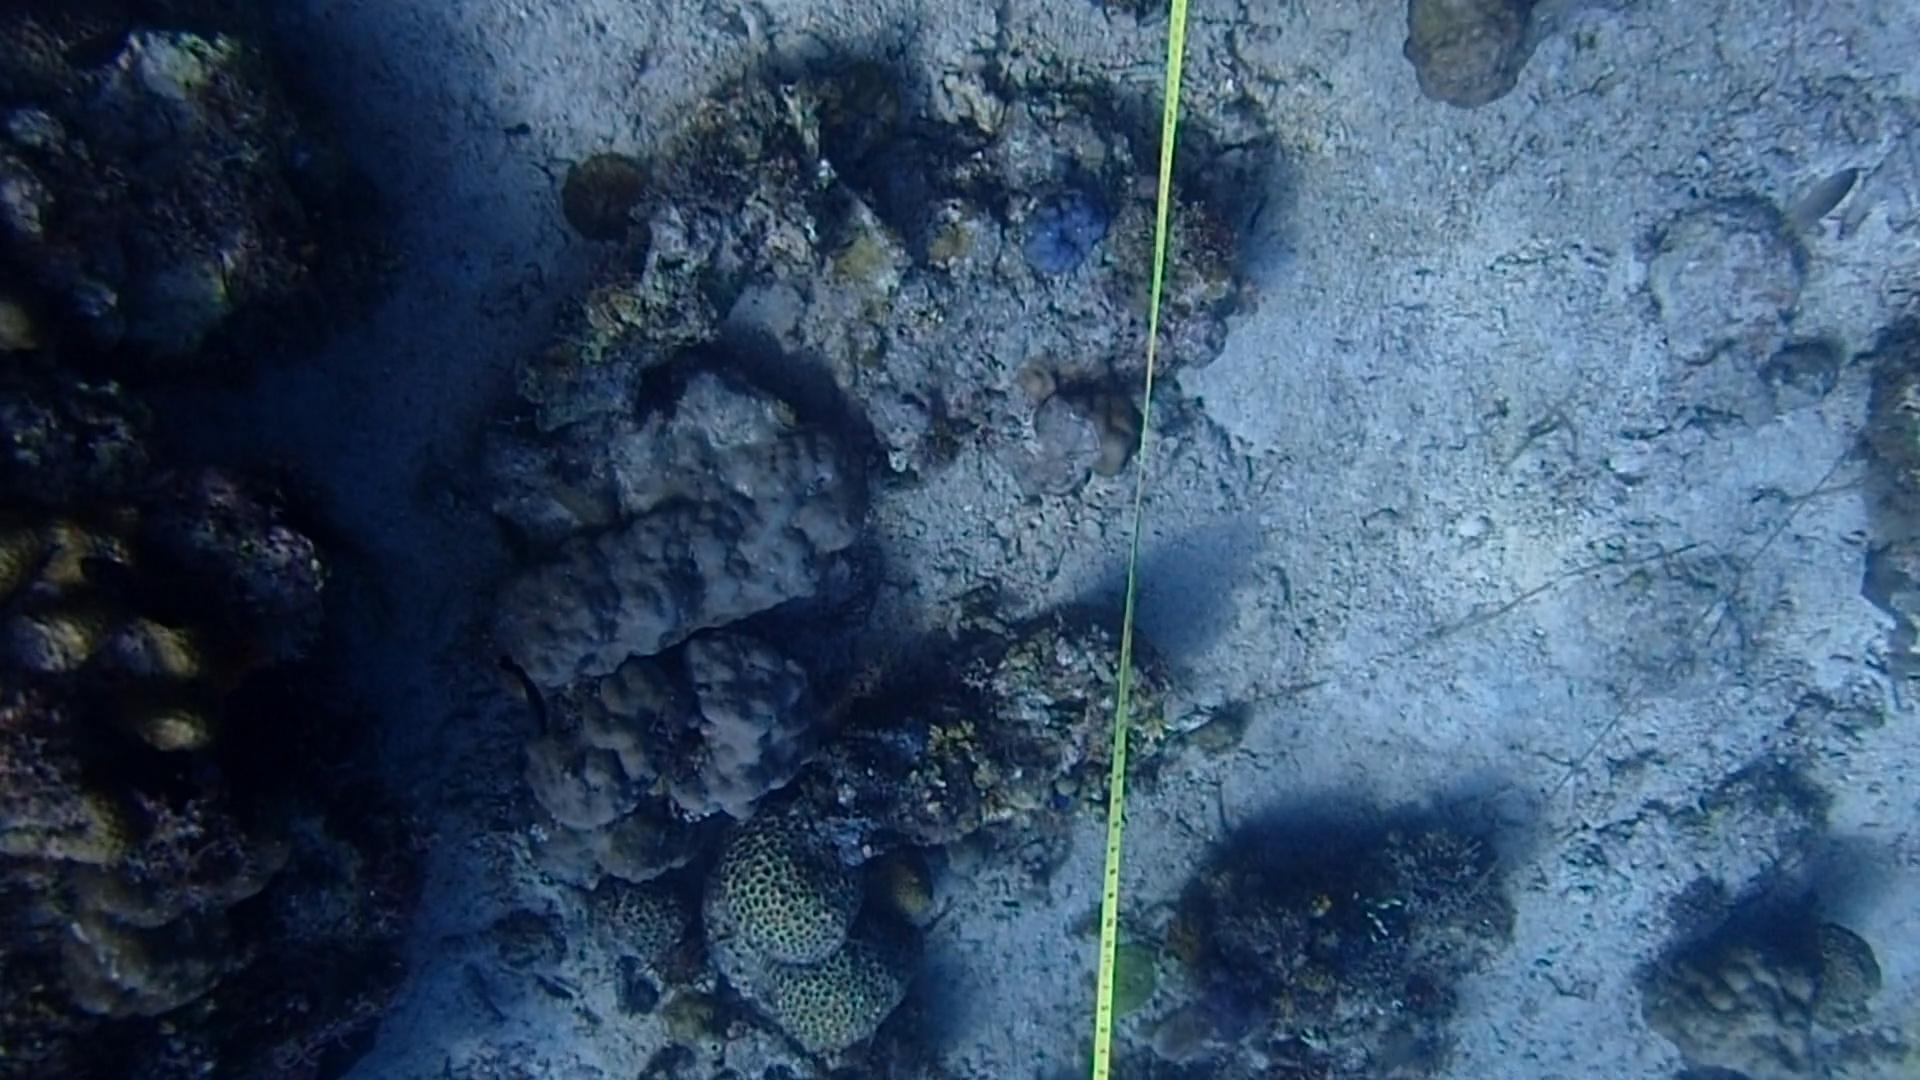Dark Fish: (53, 696, 212, 810), (468, 637, 579, 762), (83, 547, 235, 626), (58, 0, 154, 84)
Light Fish: (1775, 167, 1851, 247)
